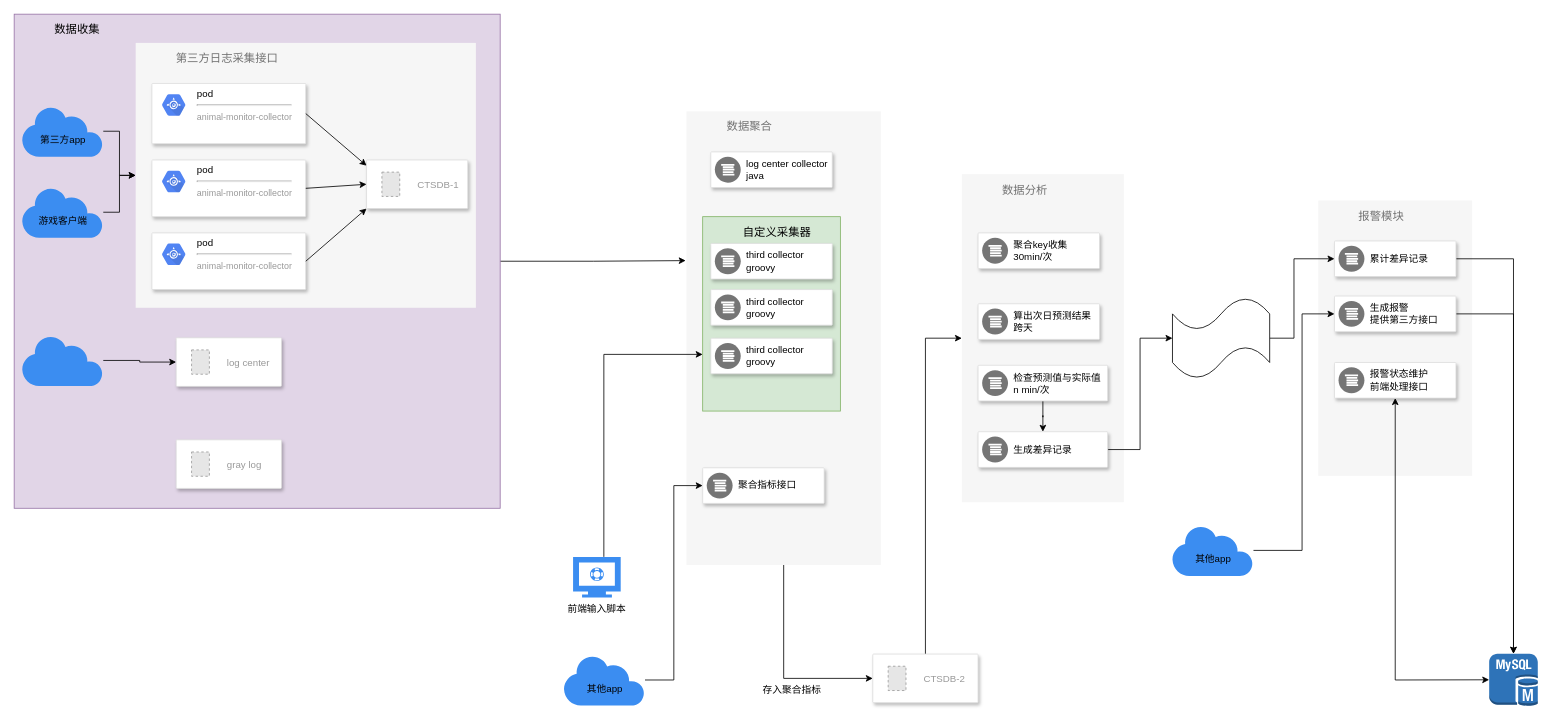
Some shapes in this 1552 by 723 pixel diagram are drawn without their labels. Grey dashed boxes stand in for pictures. Each missing label, with the centre of its shape:
"kafka" belongs at (1221,338).
"不同app" belongs at (62,360).
